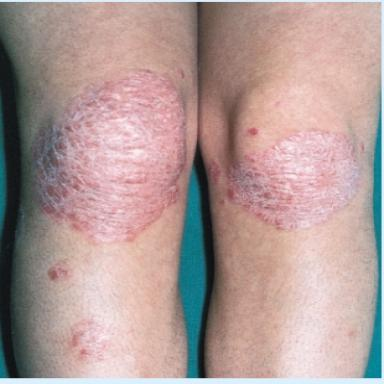Psoriasis: (33, 70, 185, 243), (227, 129, 361, 230), (209, 161, 221, 184)
